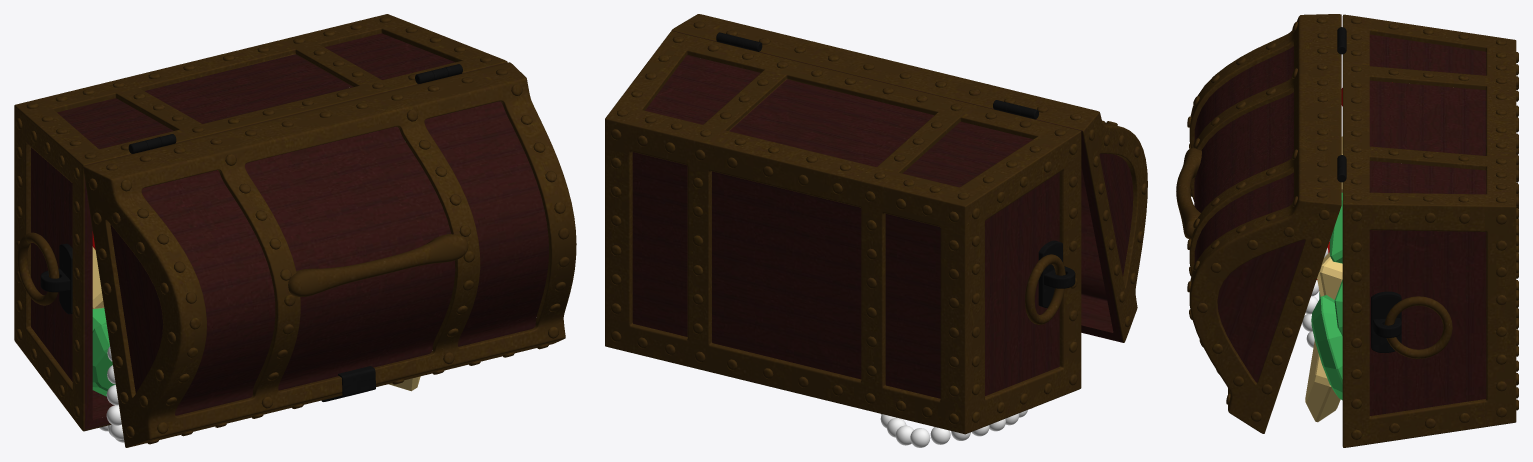
The model's file is treasure.draco.glb.
3 views of the same model, side by side, from view 1: azimuth 30°, elevation 25°; view 2: azimuth 150°, elevation 25°; view 3: azimuth 270°, elevation 25° (orthographic). The views are drawn at different scales.
Parts seen in each view (by area): view 1: aquarium_treasure_chest_wood, aquarium_treasure_chest_metal, aquarium_treasure_chest_bolts, aquarium_treasure_chest_latch, aquarium_treasure_chest_stone_green, aquarium_treasure_chest_pearl, aquarium_treasure_chest_stone_yellow; view 2: aquarium_treasure_chest_metal, aquarium_treasure_chest_wood, aquarium_treasure_chest_bolts, aquarium_treasure_chest_latch, aquarium_treasure_chest_pearl; view 3: aquarium_treasure_chest_metal, aquarium_treasure_chest_wood, aquarium_treasure_chest_bolts, aquarium_treasure_chest_stone_green, aquarium_treasure_chest_stone_yellow, aquarium_treasure_chest_latch, aquarium_treasure_chest_pearl.
Part boxes in pixels (x1,y1,x2,y2): aquarium_treasure_chest_wood: [31, 33, 548, 419]; aquarium_treasure_chest_metal: [14, 14, 576, 447]; aquarium_treasure_chest_bolts: [16, 16, 569, 444]; aquarium_treasure_chest_latch: [40, 64, 462, 401]; aquarium_treasure_chest_stone_green: [92, 308, 115, 396]; aquarium_treasure_chest_pearl: [99, 346, 124, 442]; aquarium_treasure_chest_stone_yellow: [92, 246, 420, 391]; aquarium_treasure_chest_metal: [605, 14, 1147, 434]; aquarium_treasure_chest_wood: [632, 55, 1133, 398]; aquarium_treasure_chest_bolts: [610, 21, 1147, 424]; aquarium_treasure_chest_latch: [716, 32, 1075, 307]; aquarium_treasure_chest_pearl: [880, 408, 1032, 447]; aquarium_treasure_chest_metal: [1176, 14, 1516, 447]; aquarium_treasure_chest_wood: [1194, 34, 1486, 415]; aquarium_treasure_chest_bolts: [1187, 17, 1518, 440]; aquarium_treasure_chest_stone_green: [1311, 192, 1342, 400]; aquarium_treasure_chest_stone_yellow: [1305, 136, 1342, 422]; aquarium_treasure_chest_latch: [1337, 27, 1401, 352]; aquarium_treasure_chest_pearl: [1302, 241, 1329, 347].
Size of the model in its own units: 14.7 by 9.57 by 10.43.
7 materials, 3 textured.
